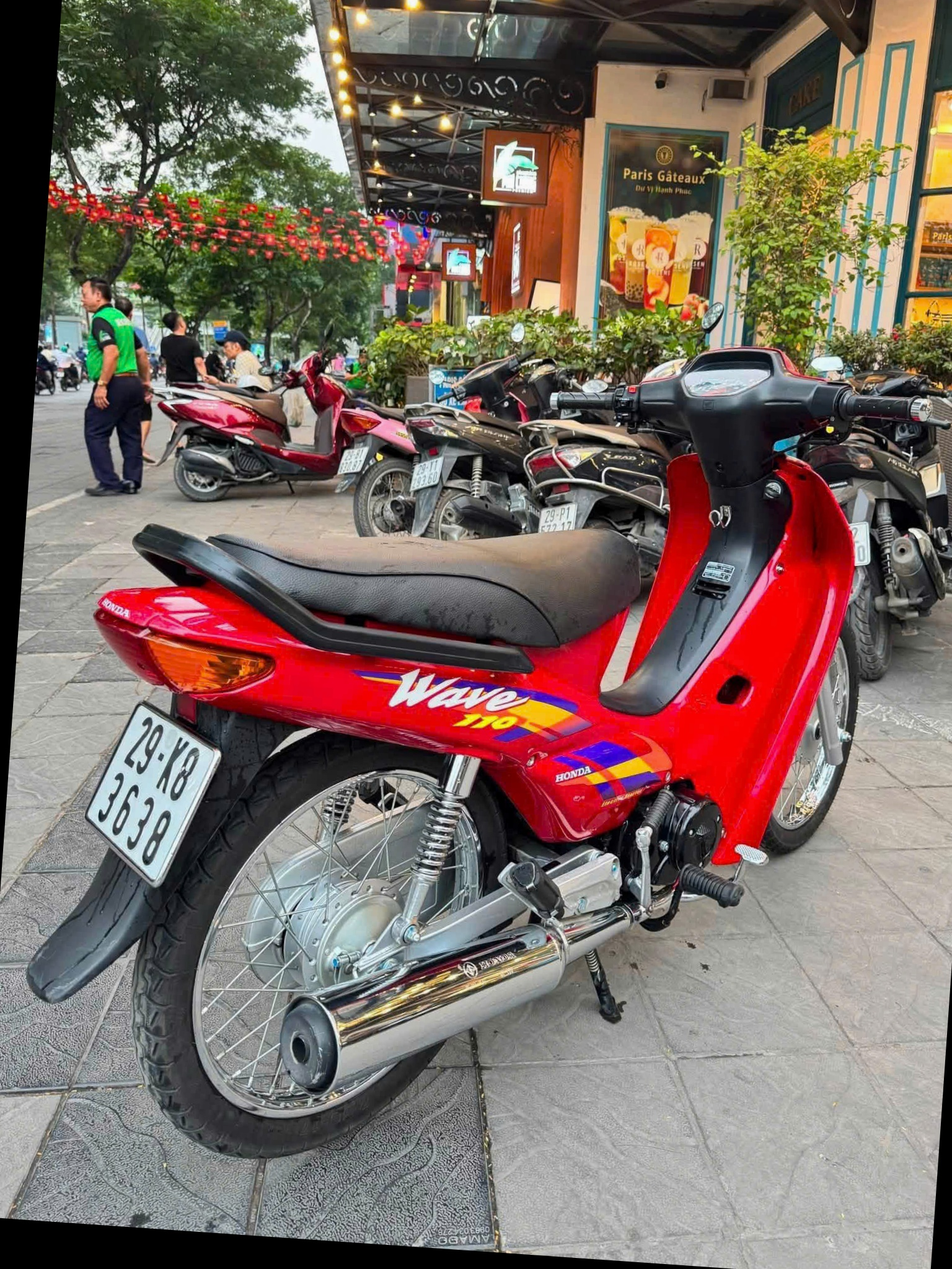Bien-so: (62, 765, 222, 971), (494, 516, 536, 551), (355, 490, 391, 526)
